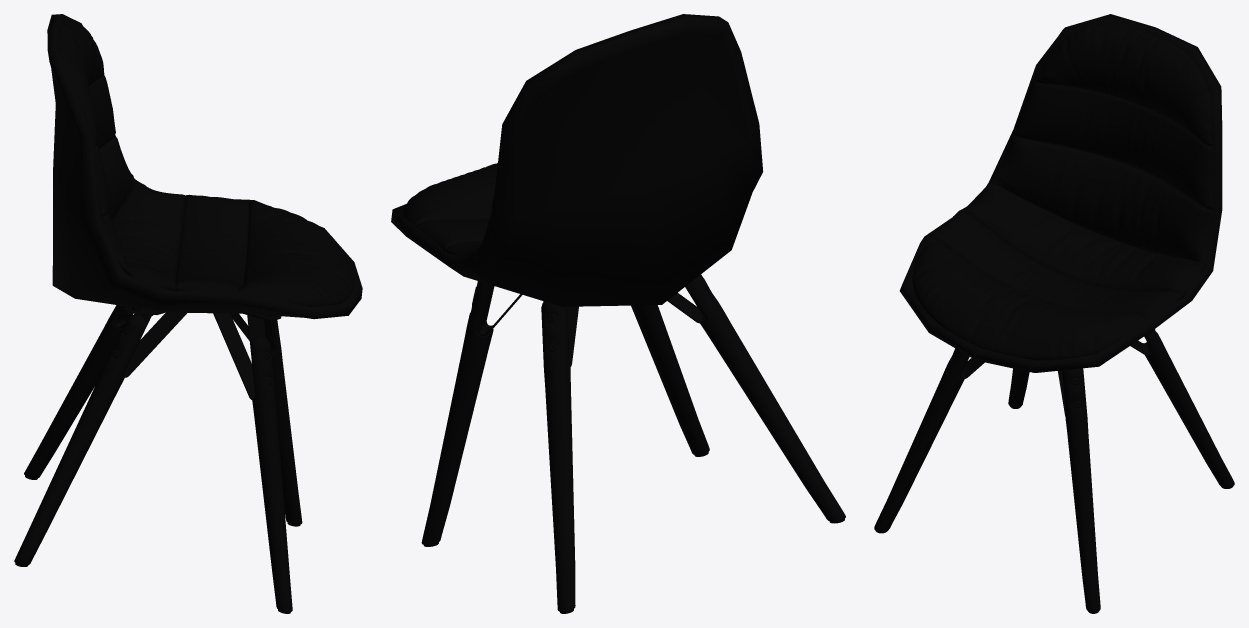
The model's file is chr.glb.
3 renders of one model, left to right at view 1: azimuth 30°, elevation 25°; view 2: azimuth 150°, elevation 25°; view 3: azimuth 270°, elevation 25°, orthographic. The views are drawn at different scales.
Parts seen in each view (by area): view 1: Cube.005; view 2: Cube.005; view 3: Cube.005.
Boxes of the visible parts, x1,y1,x2,y2 form: Cube.005: (14, 14, 362, 613); Cube.005: (391, 14, 845, 613); Cube.005: (874, 14, 1234, 613).
Bounding box in the file's own units: 0.3016 × 0.4307 × 0.2866.
Materials: 1 (1 with a texture image).
